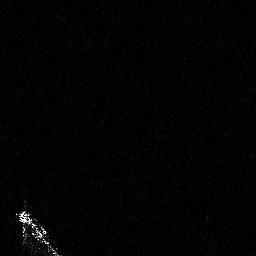ship: (11, 197, 66, 256)
